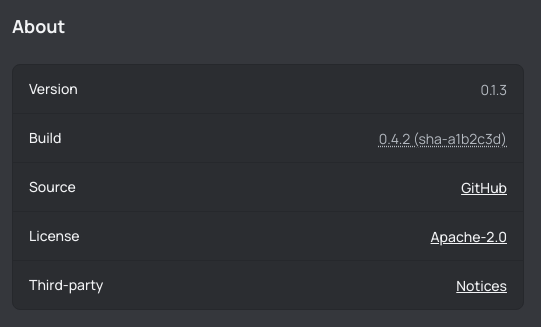
Test: AboutPanel › copies the build identifier to the clipboard when clicked
The width and height of the screenshot is (541, 327).
Click the button with aria-label "Copy build identifier 0.4.2+a1b2c3d" at (443, 139), box [379,129,507,149]
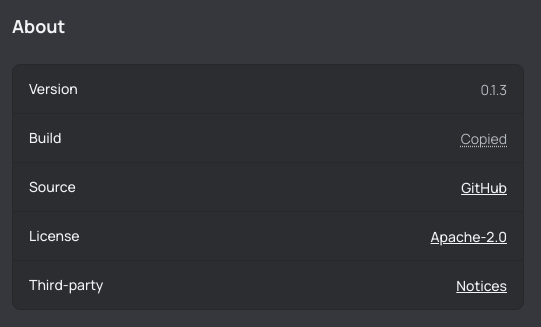
Check: the button "Copied" is shown, box [461,129,507,149]
